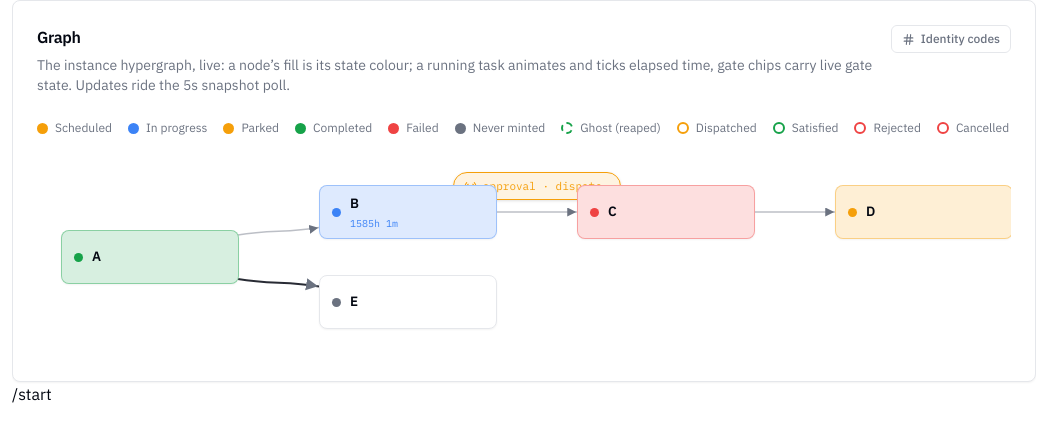
InstanceGraphTab › opens the task instance detail page when a minted node is clicked
Click the button "A" at {"x": 150, "y": 257}, box [61,230,239,284]
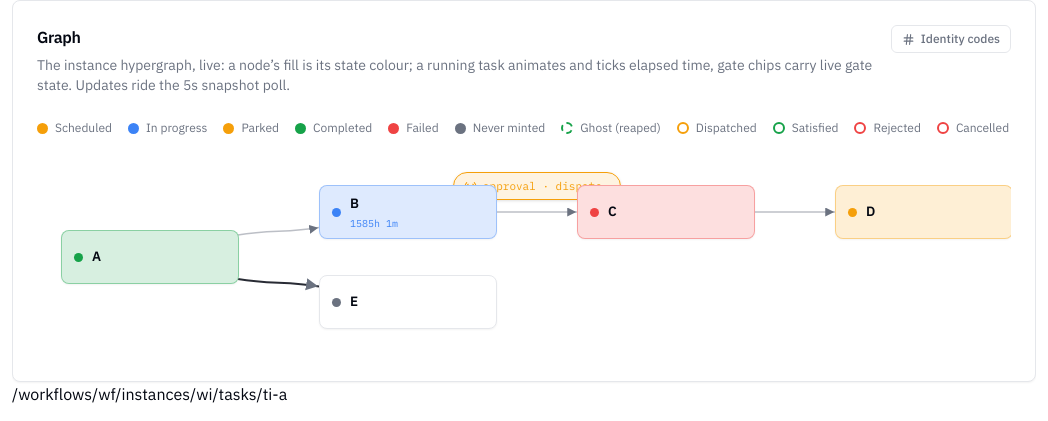
Expected: the text with test id "loc" reads "/workflows/wf/instances/wi/tasks/ti-a", [12,384,287,404]
